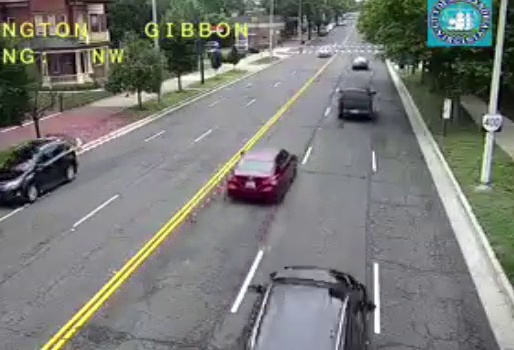car: (240, 268, 369, 350), (226, 149, 298, 201), (338, 88, 373, 118)
